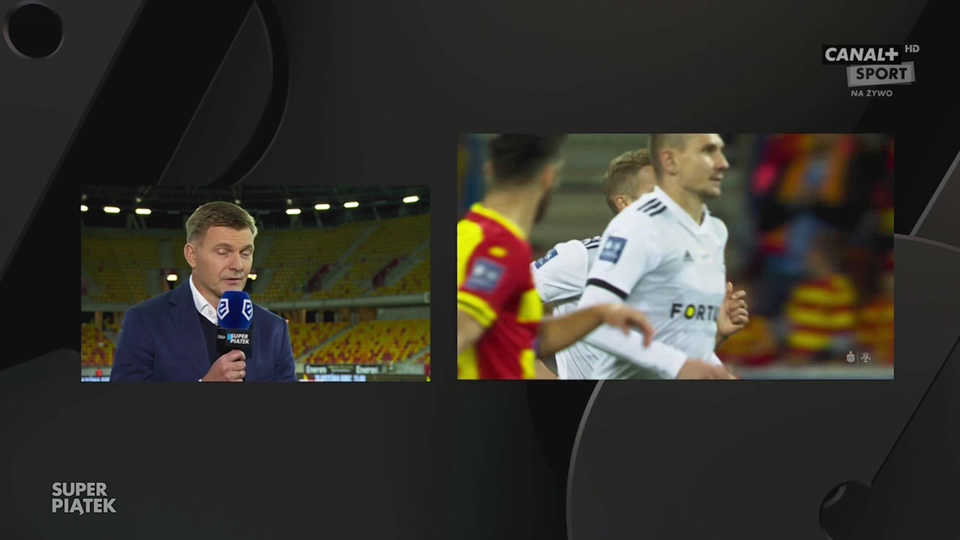Adidas: (682, 248, 693, 261)
